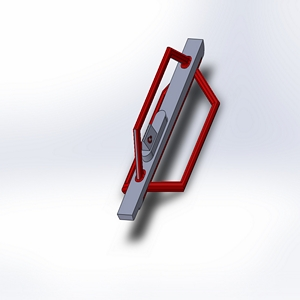submarine: (115, 30, 230, 251)
